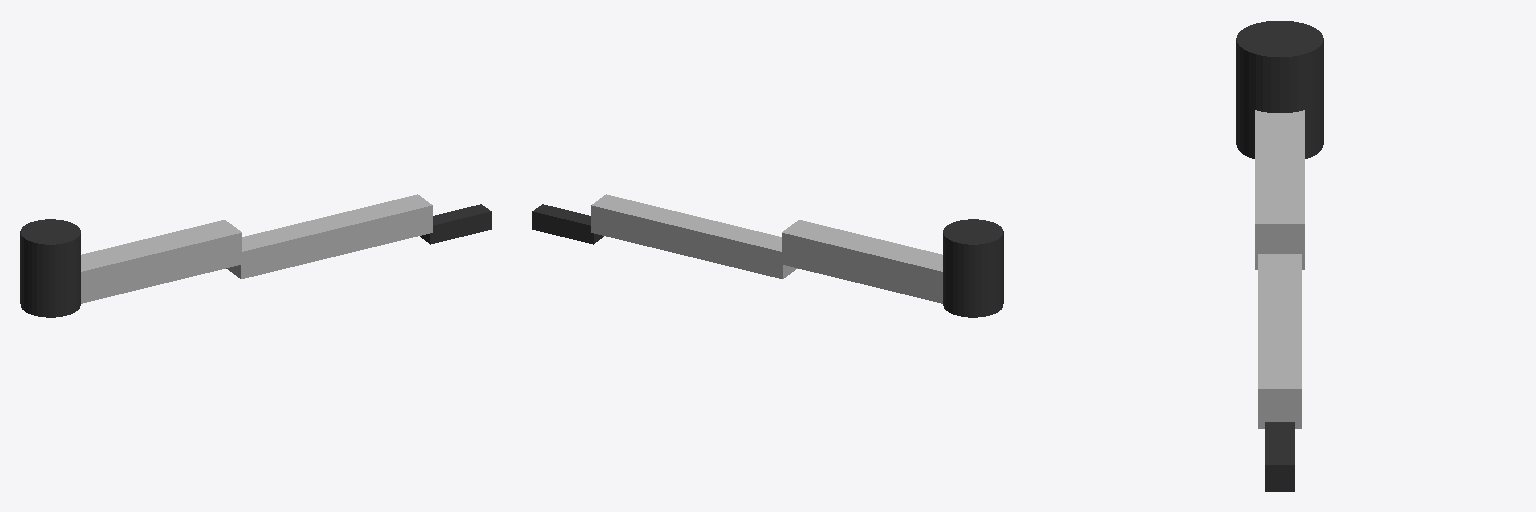
robot.urdf — mit_cheetah_single_leg:
<?xml version="1.0"?>
<robot name="mit_cheetah_single_leg">

  <!--
    Single MIT-Cheetah-style leg (3-DoF): Hip Ab/Ad, Hip Flex/Ext, Knee Flex/Ext
    - Simple primitives (boxes/cylinders) for visuals/collisions
    - Dimensions are approximate; tune link lengths, masses, inertia, and offsets to match your CAD.
    Frames:
      X forward, Y left, Z up
    Joint axes (typical):
      hip_abduction:  X (roll)
      hip:            Y (pitch)
      knee:           Y (pitch)
  -->

  <!-- ============ BASE ============ -->
  <link name="base_link">
    <inertial>
      <origin xyz="0 0 0" rpy="0 0 0"/>
      <mass value="3.0"/>
      <inertia ixx="0.02" iyy="0.02" izz="0.02" ixy="0" ixz="0" iyz="0"/>
    </inertial>
  </link>

  <!-- ============ HIP AB/AD ============ -->
  <joint name="hip_abduction" type="revolute">
    <parent link="base_link"/>
    <child link="hip_link"/>
    <!-- hip offset from body -->
    <origin xyz="0.00 0.10 0.00" rpy="0 0 0"/>
    <axis xyz="1 0 0"/>
    <limit lower="-0.6" upper="0.6" effort="60" velocity="12"/>
  </joint>

  <link name="hip_link">
    <visual>
      <origin xyz="0 0 0" rpy="0 0 0"/>
      <geometry>
        <cylinder radius="0.03" length="0.08"/>
      </geometry>
      <material name="dark"/>
    </visual>
    <collision>
      <origin xyz="0 0 0" rpy="0 0 0"/>
      <geometry>
        <cylinder radius="0.03" length="0.08"/>
      </geometry>
    </collision>
    <inertial>
      <origin xyz="0 0 0" rpy="0 0 0"/>
      <mass value="0.6"/>
      <inertia ixx="0.001" iyy="0.001" izz="0.001" ixy="0" ixz="0" iyz="0"/>
    </inertial>
  </link>

  <!-- ============ HIP PITCH (THIGH) ============ -->
  <joint name="hip_pitch" type="revolute">
    <parent link="hip_link"/>
    <child link="thigh_link"/>
    <!-- small lateral bracket thickness -->
    <origin xyz="0.00 0.00 0.00" rpy="0 0 0"/>
    <axis xyz="0 1 0"/>
    <limit lower="-1.7" upper="1.2" effort="80" velocity="12"/>
  </joint>

  <link name="thigh_link">
    <!-- Approx thigh length ~0.21 m -->
    <visual>
      <origin xyz="0.105 0 -0.02" rpy="0 0 0"/>
      <geometry>
        <box size="0.21 0.035 0.035"/>
      </geometry>
      <material name="light"/>
    </visual>
    <collision>
      <origin xyz="0.105 0 -0.02" rpy="0 0 0"/>
      <geometry>
        <box size="0.21 0.035 0.035"/>
      </geometry>
    </collision>
    <inertial>
      <origin xyz="0.105 0 -0.02" rpy="0 0 0"/>
      <mass value="0.45"/>
      <inertia ixx="0.002" iyy="0.006" izz="0.006" ixy="0" ixz="0" iyz="0"/>
    </inertial>
  </link>

  <!-- ============ KNEE PITCH (SHANK) ============ -->
  <joint name="knee_pitch" type="revolute">
    <parent link="thigh_link"/>
    <child link="shank_link"/>
    <!-- knee at end of thigh -->
    <origin xyz="0.21 0 -0.02" rpy="0 0 0"/>
    <axis xyz="0 1 0"/>
    <limit lower="-2.6" upper="0.0" effort="80" velocity="12"/>
  </joint>

  <link name="shank_link">
    <!-- Approx shank length ~0.22 m -->
    <visual>
      <origin xyz="0.11 0 -0.02" rpy="0 0 0"/>
      <geometry>
        <box size="0.22 0.030 0.030"/>
      </geometry>
      <material name="light"/>
    </visual>
    <collision>
      <origin xyz="0.11 0 -0.02" rpy="0 0 0"/>
      <geometry>
        <box size="0.22 0.030 0.030"/>
      </geometry>
    </collision>
    <inertial>
      <origin xyz="0.11 0 -0.02" rpy="0 0 0"/>
      <mass value="0.35"/>
      <inertia ixx="0.0015" iyy="0.004" izz="0.004" ixy="0" ixz="0" iyz="0"/>
    </inertial>
  </link>

  <!-- ============ FOOT (fixed) ============ -->
  <joint name="foot_fixed" type="fixed">
    <parent link="shank_link"/>
    <child link="foot_link"/>
    <origin xyz="0.22 0 -0.02" rpy="0 0 0"/>
  </joint>

  <link name="foot_link">
    <visual>
      <origin xyz="0.035 0 -0.02" rpy="0 0 0"/>
      <geometry>
        <box size="0.07 0.020 0.020"/>
      </geometry>
      <material name="dark"/>
    </visual>
    <collision>
      <origin xyz="0.035 0 -0.02" rpy="0 0 0"/>
      <geometry>
        <box size="0.07 0.020 0.020"/>
      </geometry>
    </collision>
    <inertial>
      <origin xyz="0.035 0 -0.02" rpy="0 0 0"/>
      <mass value="0.08"/>
      <inertia ixx="0.0001" iyy="0.0002" izz="0.0002" ixy="0" ixz="0" iyz="0"/>
    </inertial>
  </link>

  <!-- ============ MATERIALS ============ -->
  <material name="dark"><color rgba="0.25 0.25 0.25 1"/></material>
  <material name="light"><color rgba="0.75 0.75 0.75 1"/></material>

</robot>

--- Render facts (derived) ---
3 views of the same robot in one strip: view 1: azimuth 30°, elevation 25°; view 2: azimuth 150°, elevation 25°; view 3: azimuth 270°, elevation 25° (orthographic).
Robot: mit_cheetah_single_leg — 5 links, 4 joints (3 revolute, 1 fixed); root link base_link; default pose: all joints at 0.
Visible links, largest first — view 1: shank_link, thigh_link, hip_link, foot_link; view 2: shank_link, thigh_link, hip_link, foot_link; view 3: hip_link, shank_link, thigh_link, foot_link.
Boxes of the visible links, x1,y1,x2,y2 form: shank_link: (226, 194, 432, 278); thigh_link: (81, 220, 241, 303); hip_link: (20, 219, 80, 317); foot_link: (420, 204, 491, 244); shank_link: (591, 194, 797, 278); thigh_link: (782, 220, 942, 303); hip_link: (943, 219, 1003, 317); foot_link: (532, 204, 603, 244); hip_link: (1236, 21, 1323, 158); shank_link: (1258, 254, 1301, 428); thigh_link: (1255, 110, 1304, 269); foot_link: (1265, 422, 1294, 491).
Bounding box of the posed robot: 0.53 × 0.06 × 0.11 m (x, y, z).
Geometry: primitives only (box / cylinder / sphere), no mesh files.
